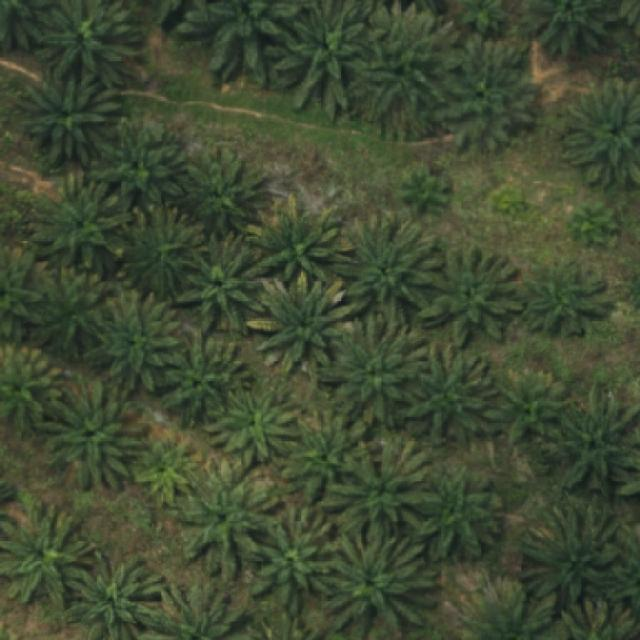Kelapa_Sawit: (341, 1, 461, 124), (330, 210, 444, 333), (179, 454, 283, 581), (324, 527, 440, 640), (33, 374, 142, 494), (441, 34, 544, 155), (316, 313, 430, 422), (416, 242, 526, 349), (248, 268, 357, 374), (515, 504, 623, 605), (30, 168, 136, 270), (249, 190, 362, 282), (17, 71, 120, 169), (328, 436, 440, 524), (91, 116, 187, 216), (177, 229, 266, 336), (252, 501, 333, 617), (408, 344, 499, 447), (91, 290, 180, 395), (278, 410, 372, 505), (120, 204, 211, 301), (203, 382, 302, 468), (162, 331, 250, 426), (483, 363, 572, 449), (185, 148, 266, 237), (25, 264, 107, 350), (418, 464, 492, 559), (526, 257, 609, 337), (135, 436, 190, 506), (400, 168, 451, 217)
